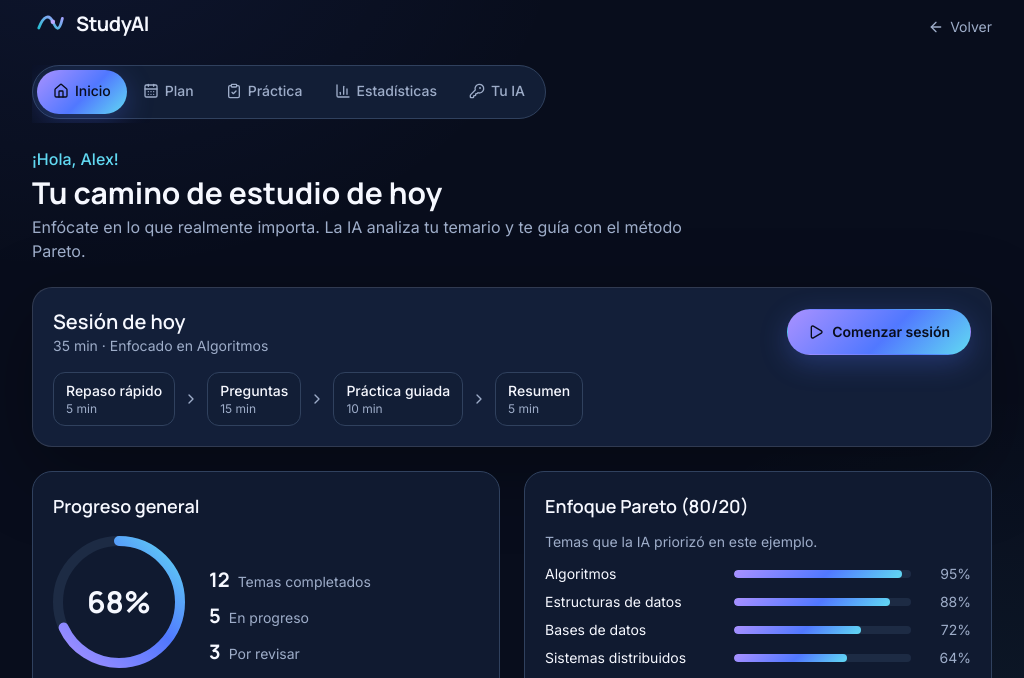
Scenario: DemoPage › tracks wrong answers locally and explains them
Click the button "Práctica": (264, 92) [210,70,318,114]
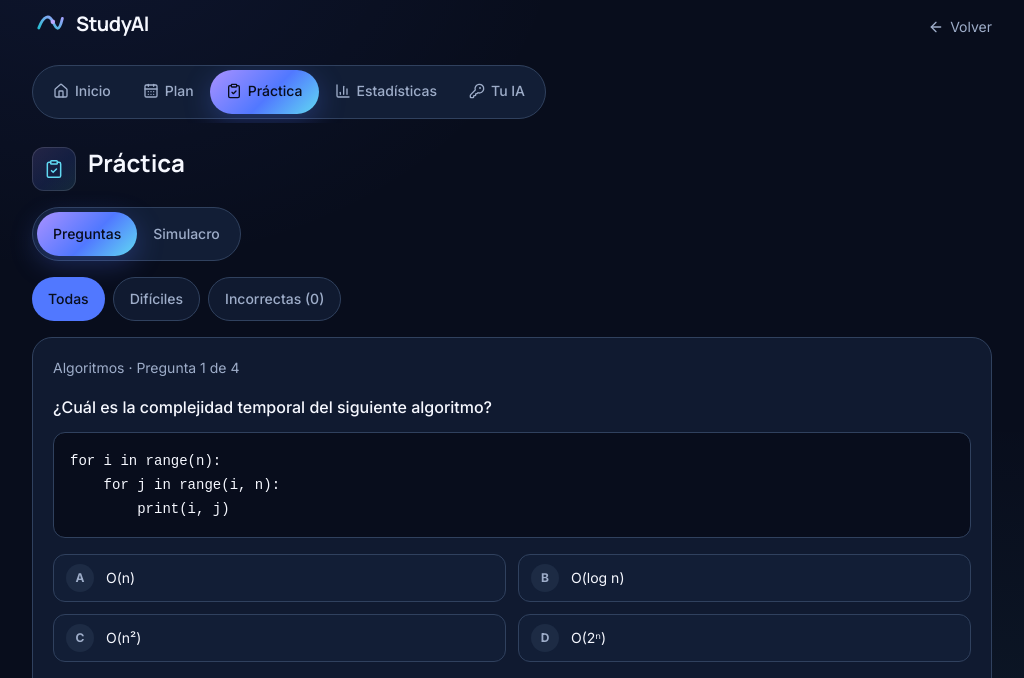
Click the button "A O(n)": (80, 578) [53,554,506,602]
(page scrolled)
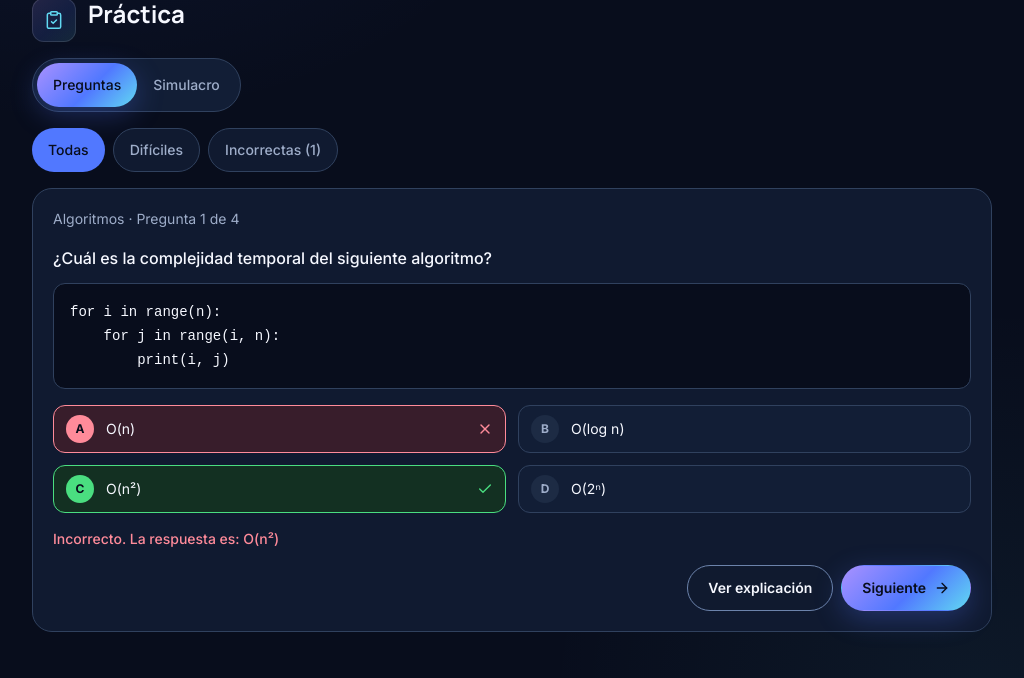
Expected: the text "Incorrecto. La respuesta es: O(n²)" is shown, [53,530,279,547]
Click the button "Ver explicación": (760, 588) [687,565,833,611]
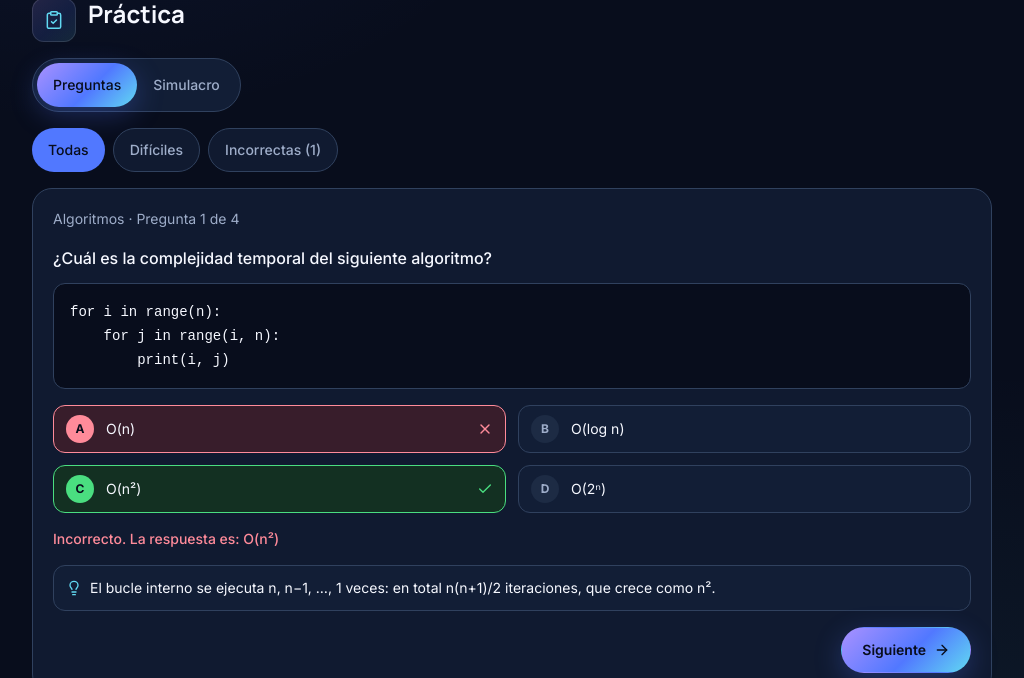
Expected: the text "n(n+1)/2 iteraciones" is shown, [90,579,716,596]
Click the button "Incorrectas (1)": (273, 150) [208,128,338,172]
(page scrolled)
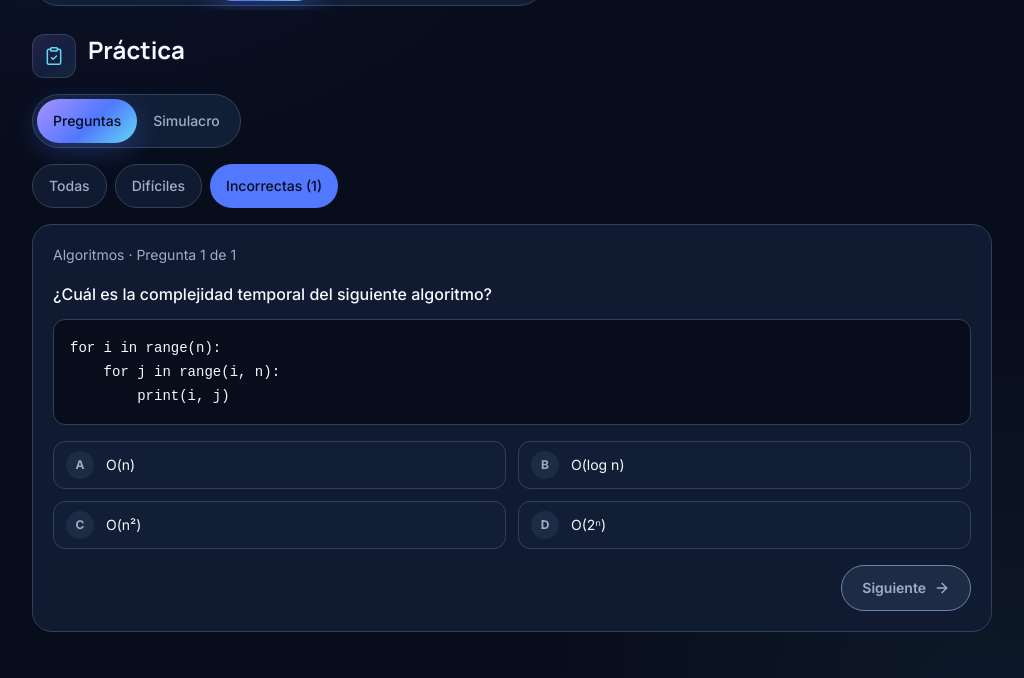
Expected: the text "Algoritmos · Pregunta 1 de 1" is shown, [53,246,236,263]
